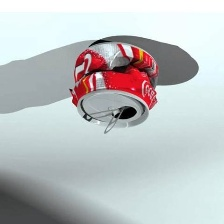can: (66, 35, 164, 135)
